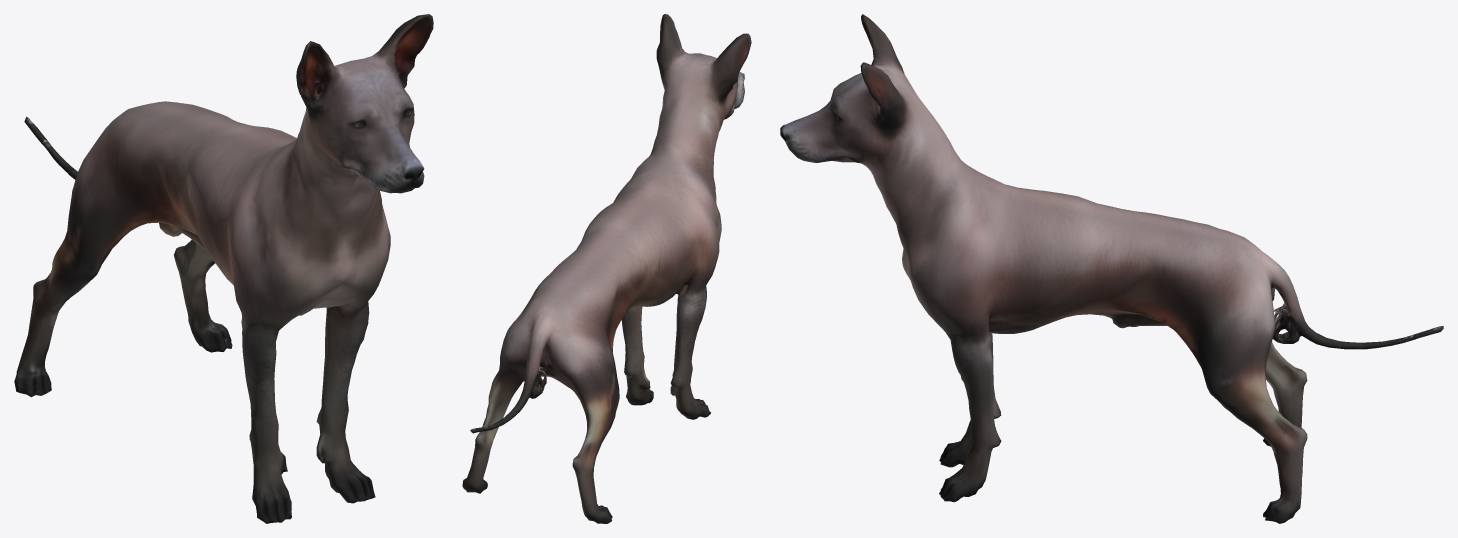
Rendered from Noble_Watcher_1124011950_texture.obj.
3 views of the same model, side by side, from view 1: azimuth 30°, elevation 25°; view 2: azimuth 150°, elevation 25°; view 3: azimuth 270°, elevation 25° (orthographic). The views are drawn at different scales.
Parts seen in each view (by area): view 1: Noble_Watcher_1124011950_texture; view 2: Noble_Watcher_1124011950_texture; view 3: Noble_Watcher_1124011950_texture.
Part boxes in pixels (x1=…): Noble_Watcher_1124011950_texture: x1=14, y1=14, x2=433, y2=523; Noble_Watcher_1124011950_texture: x1=462, y1=14, x2=751, y2=523; Noble_Watcher_1124011950_texture: x1=780, y1=14, x2=1443, y2=523.
Bounding box in the file's own units: 0.2582 × 0.6 × 0.8151.
1 material, 1 textured.
